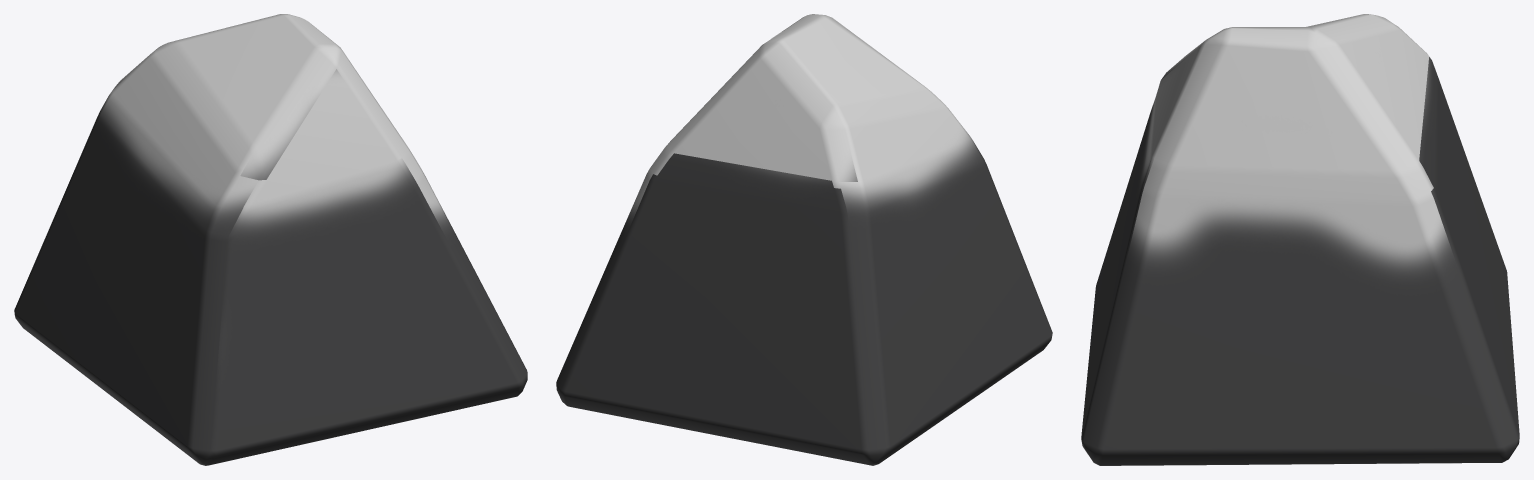
File: mountain.fbx
The picture shows the model from 3 angles, left to right: view 1: azimuth 30°, elevation 25°; view 2: azimuth 150°, elevation 25°; view 3: azimuth 270°, elevation 25°; orthographic projection. The views are drawn at different scales.
Visible parts, largest first — view 1: pCube1; view 2: pCube1; view 3: pCube1.
Boxes of the visible parts, left/top/right/bottom form: pCube1: left=14, top=14, right=527, bottom=465; pCube1: left=556, top=14, right=1052, bottom=465; pCube1: left=1081, top=14, right=1519, bottom=465.
Bounding box in the file's own units: 6.45 × 6.29 × 6.78.
